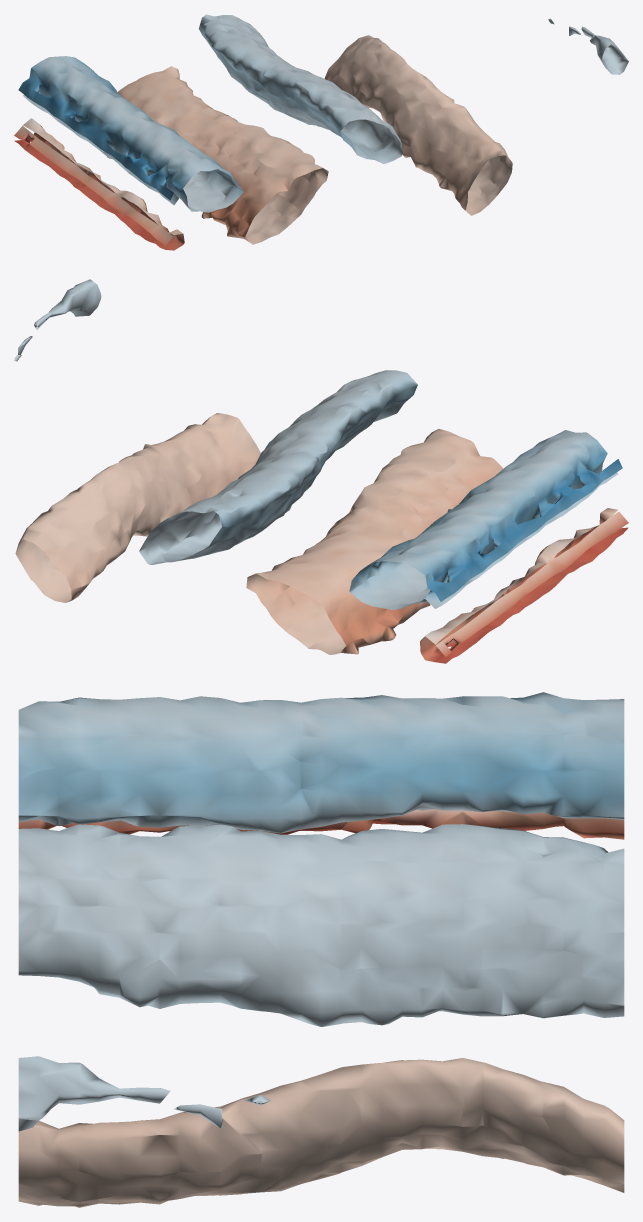
The picture shows the model from 3 angles, top to bottom: view 1: azimuth 30°, elevation 25°; view 2: azimuth 150°, elevation 25°; view 3: azimuth 270°, elevation 25°; orthographic projection. The views are drawn at different scales.
Size of the model in its own units: 4.42 by 1.26 by 2.5.
